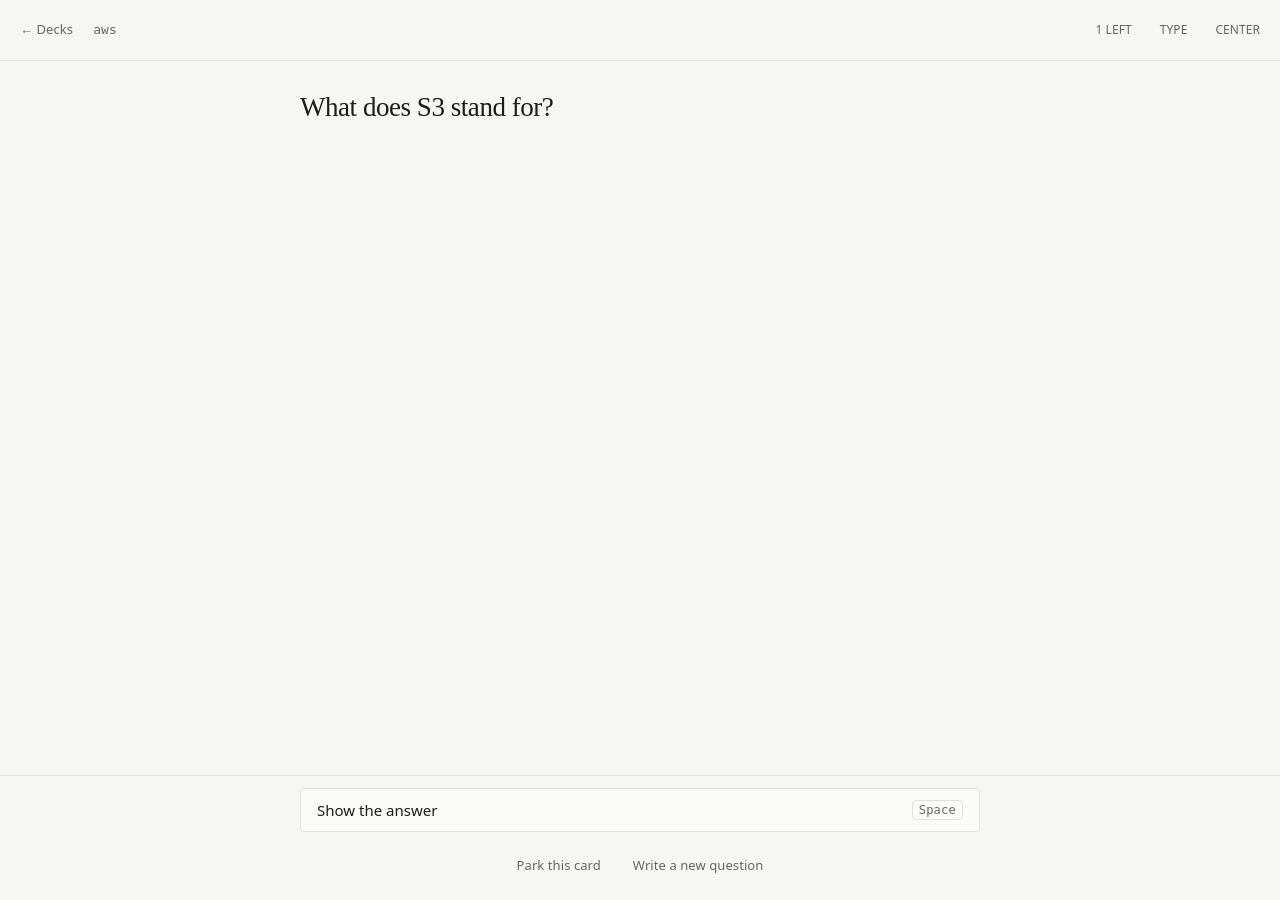
Test: #790 A2 Write a new question opens the capture line
The image size is (1280, 900).
Check: the field with class "cm-content" is shown, box [300, 92, 553, 122]
Click the button "Write a new question" at point(698, 866), box [629, 844, 768, 888]
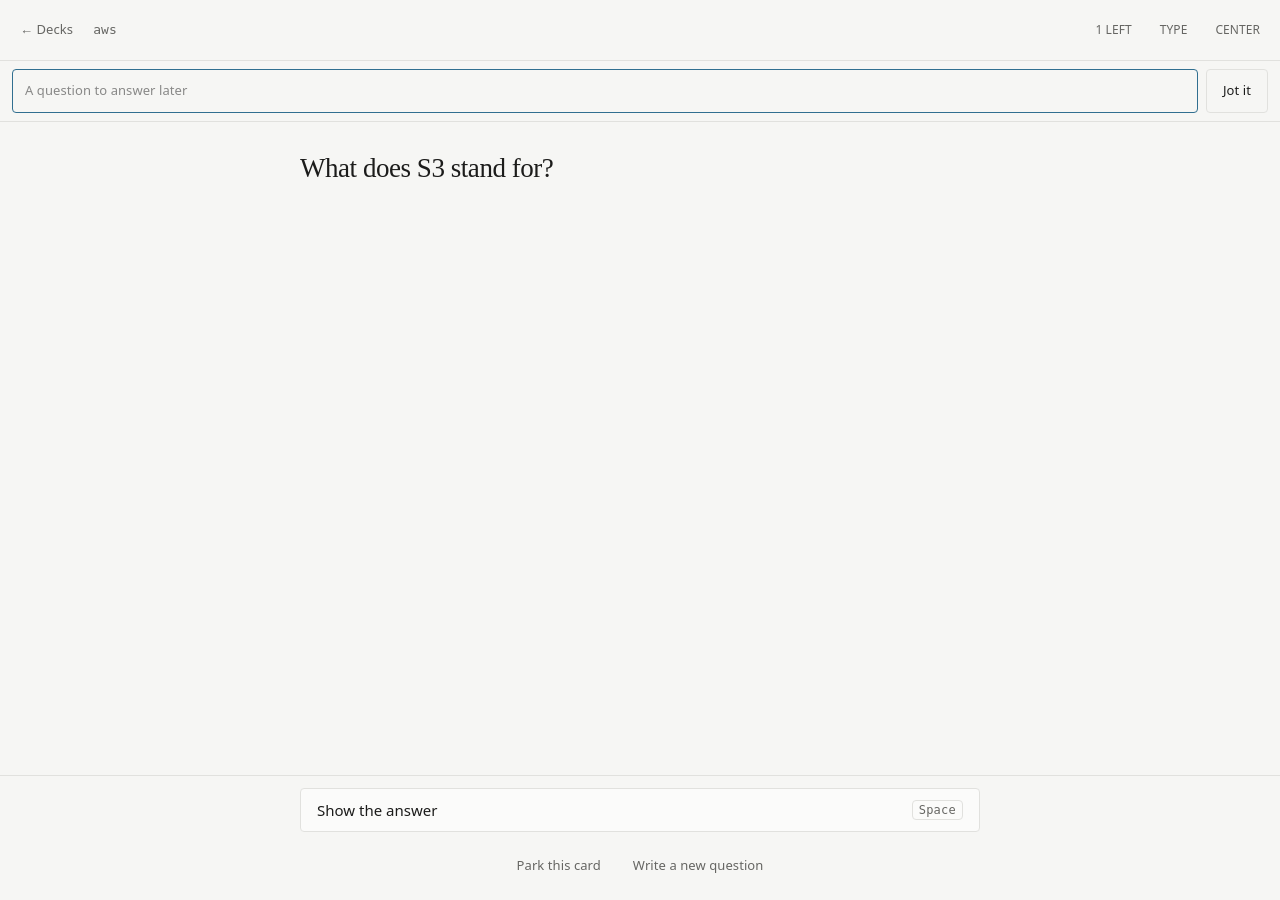
Check: the field named "a new question" is shown, box [12, 69, 1198, 113]
